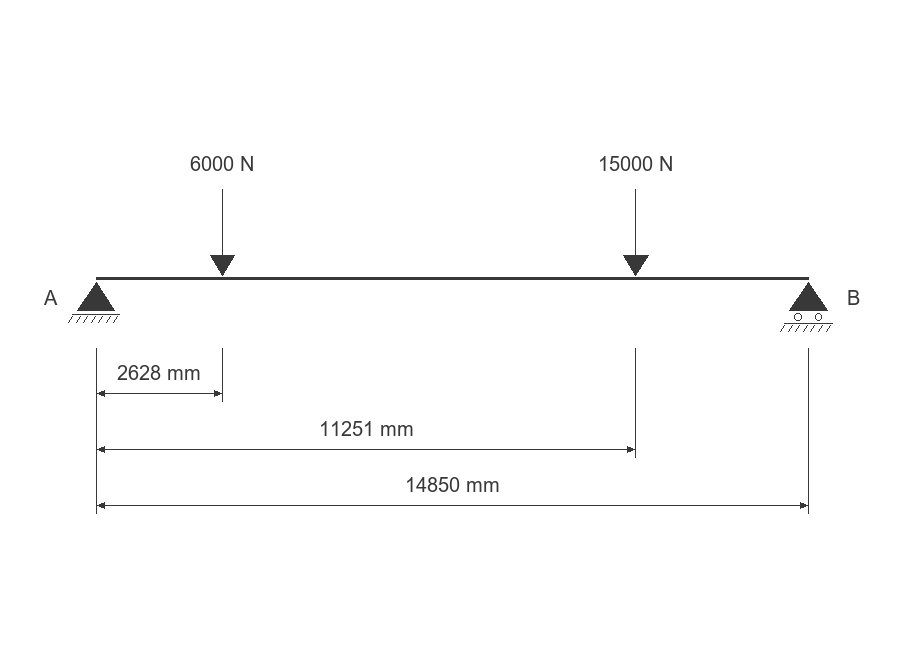pin_support: (68, 282, 120, 323)
point_load: (623, 189, 649, 276), (210, 189, 235, 276)
roller_support: (780, 282, 833, 332)
